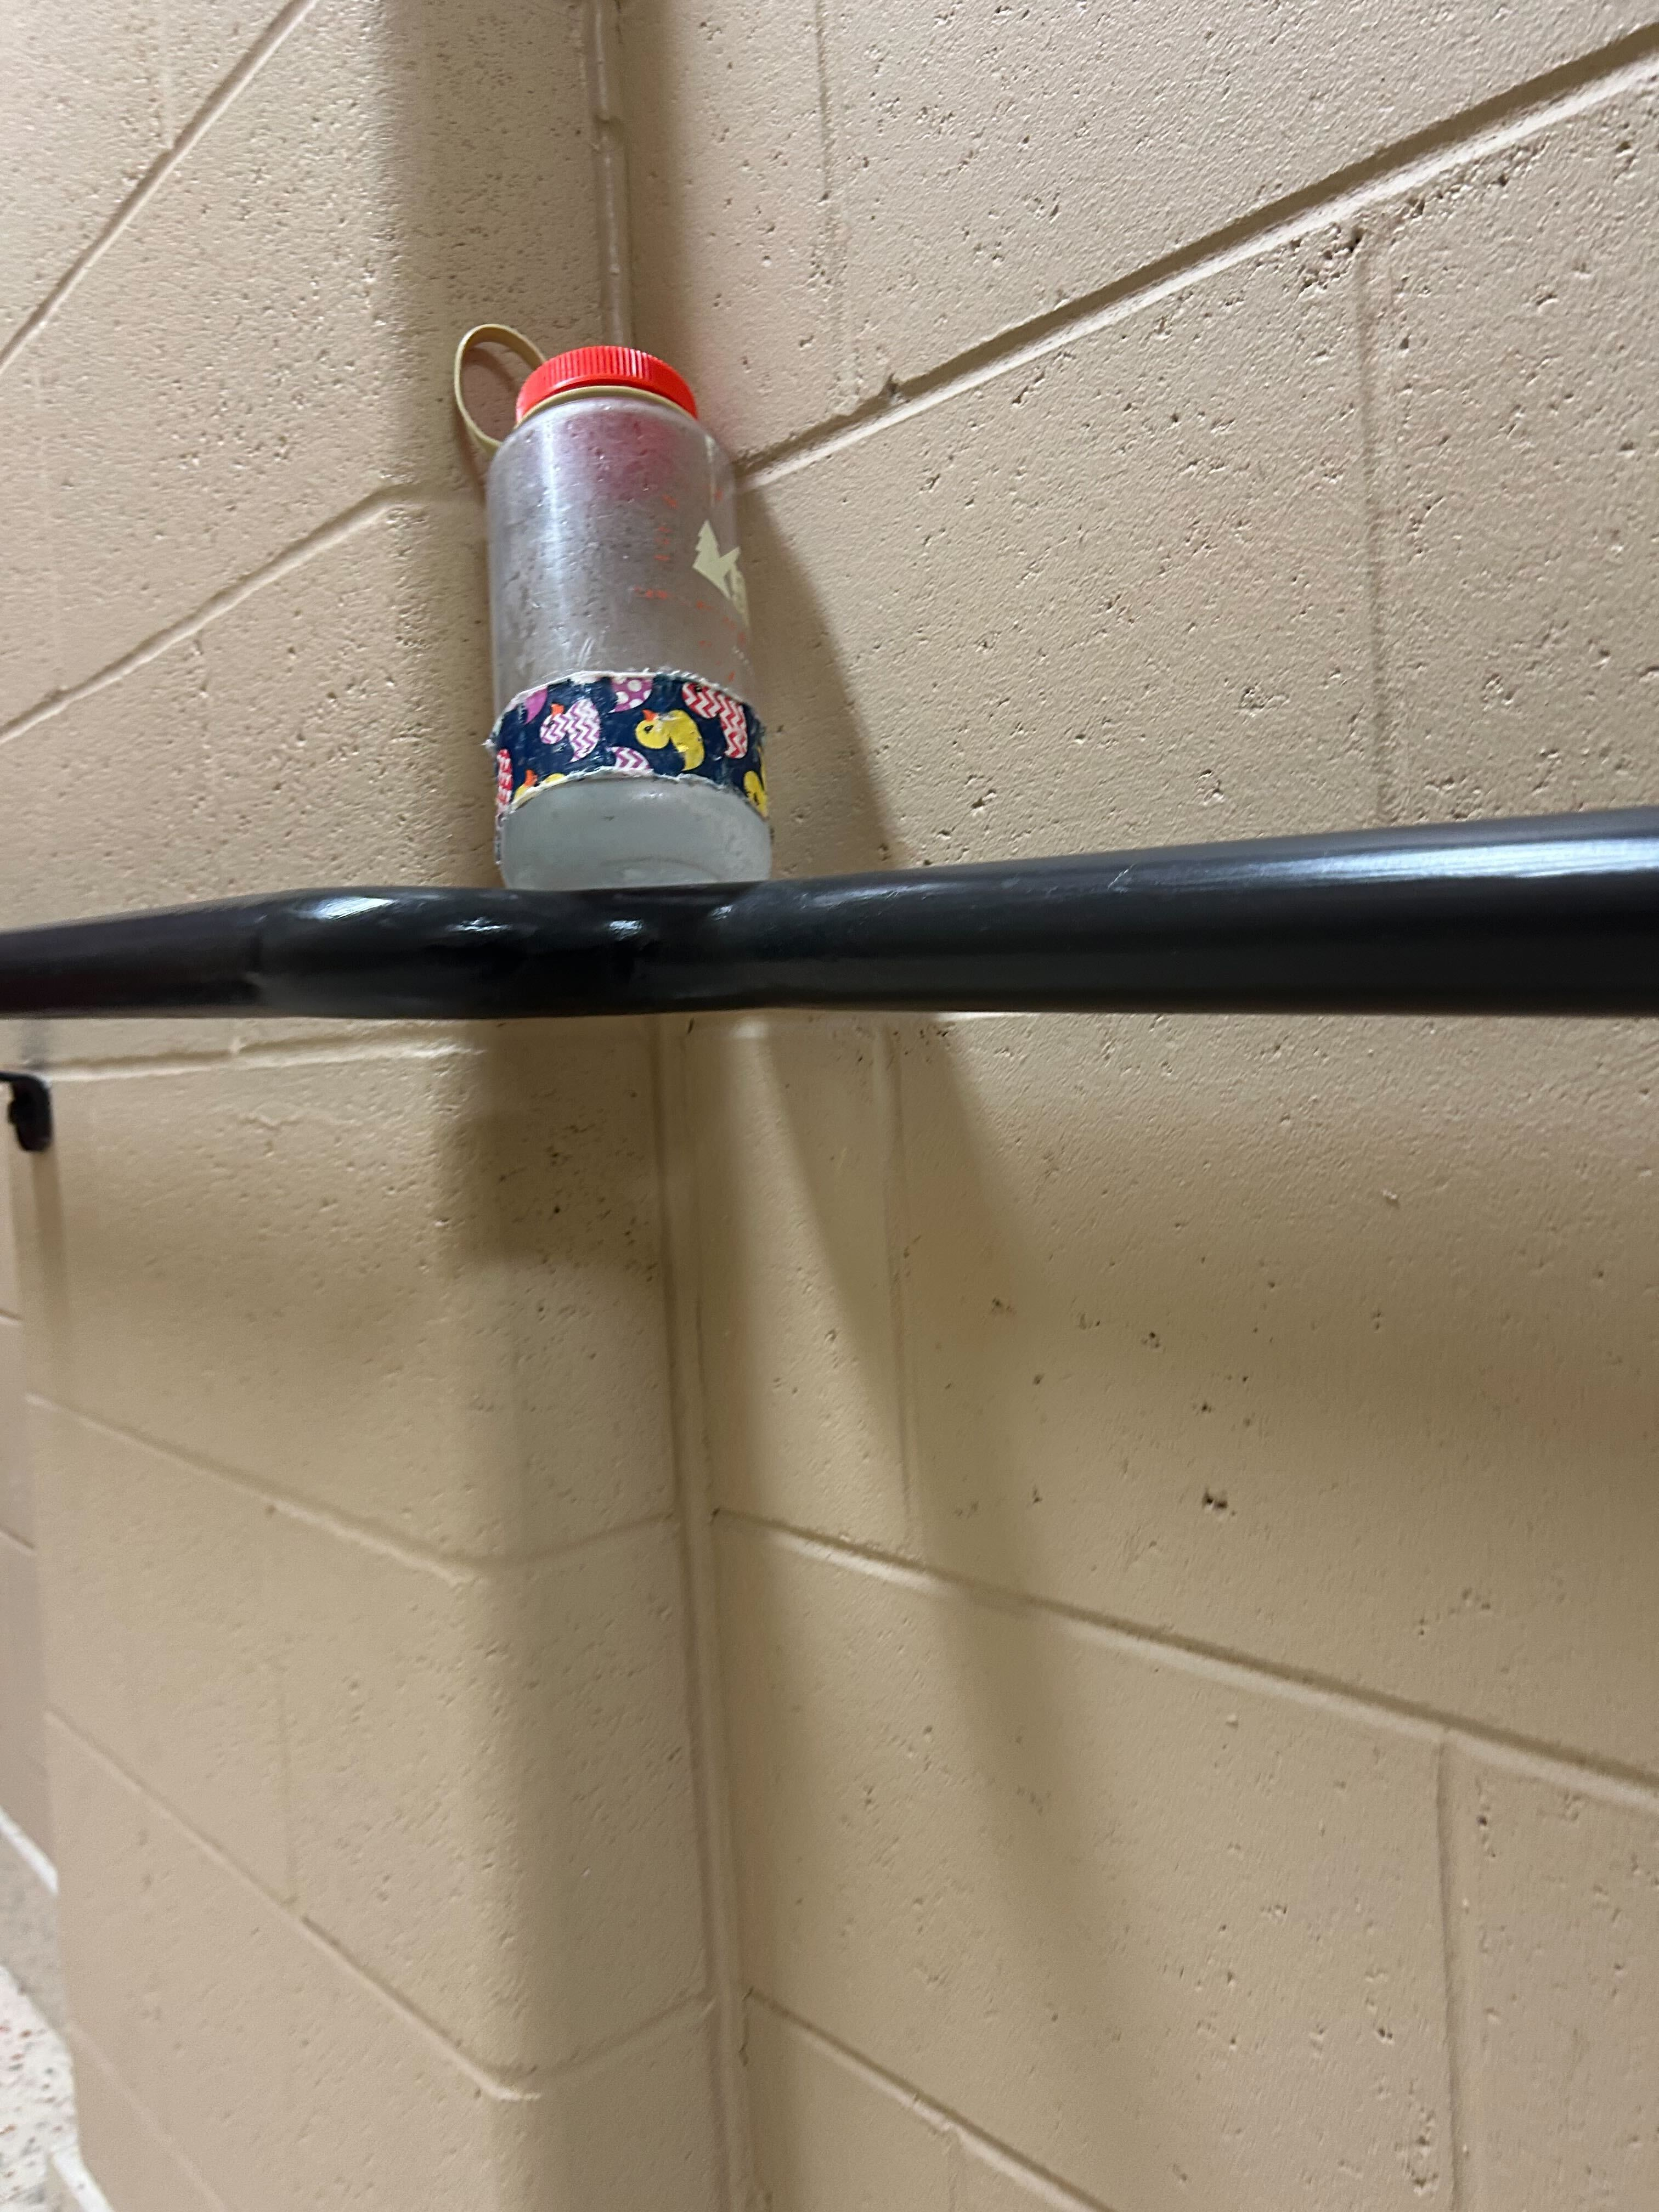bottle: (448, 308, 777, 899)
